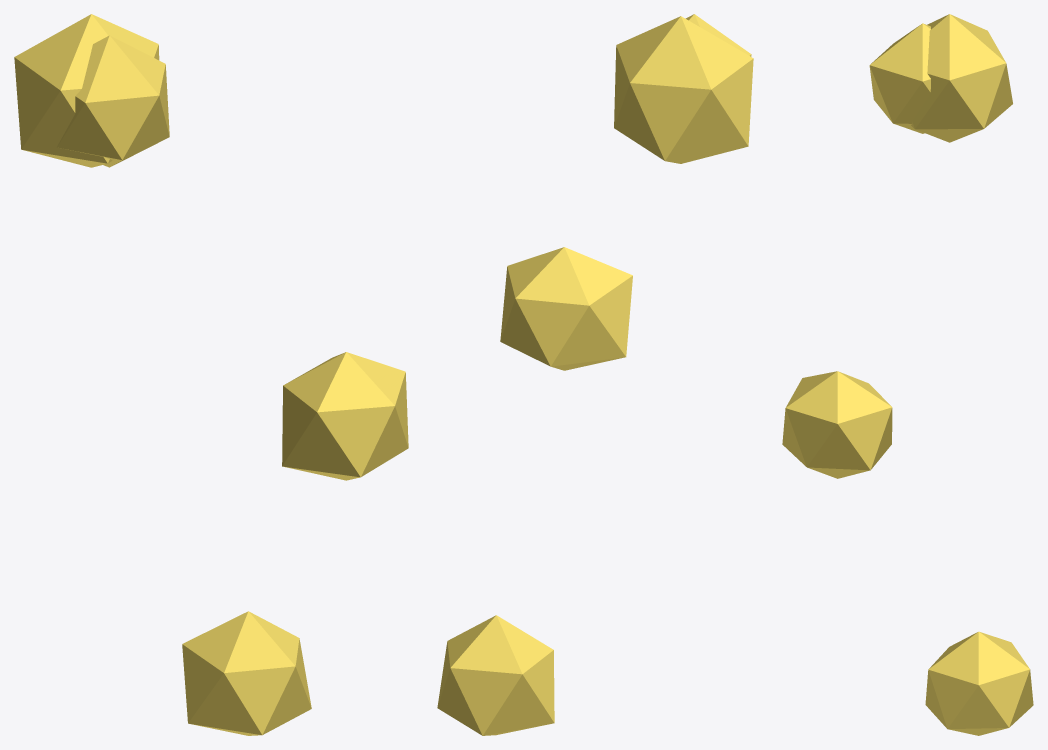
Rendered from kelp_vine_tall_glow.fbx.
3 views of the same model, side by side, from view 1: azimuth 30°, elevation 25°; view 2: azimuth 150°, elevation 25°; view 3: azimuth 270°, elevation 25° (orthographic). The views are drawn at different scales.
Parts seen in each view (by area): view 1: kelp_vine_tall_glow; view 2: kelp_vine_tall_glow; view 3: kelp_vine_tall_glow.
Part boxes in pixels (bbox=[...]): kelp_vine_tall_glow: bbox=[14, 14, 408, 735]; kelp_vine_tall_glow: bbox=[437, 14, 753, 735]; kelp_vine_tall_glow: bbox=[782, 14, 1033, 735].
Bounding box in the file's own units: 418 × 977 × 342.
Materials: 1 (1 with a texture image).
